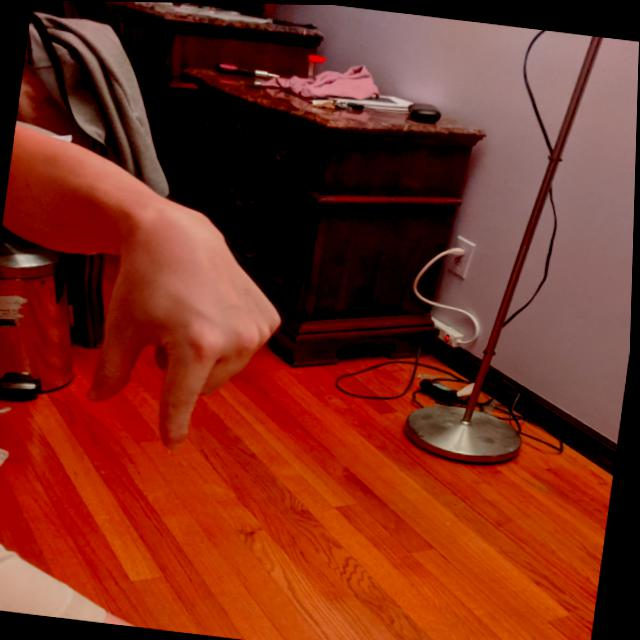Q: (77, 202, 302, 469)
